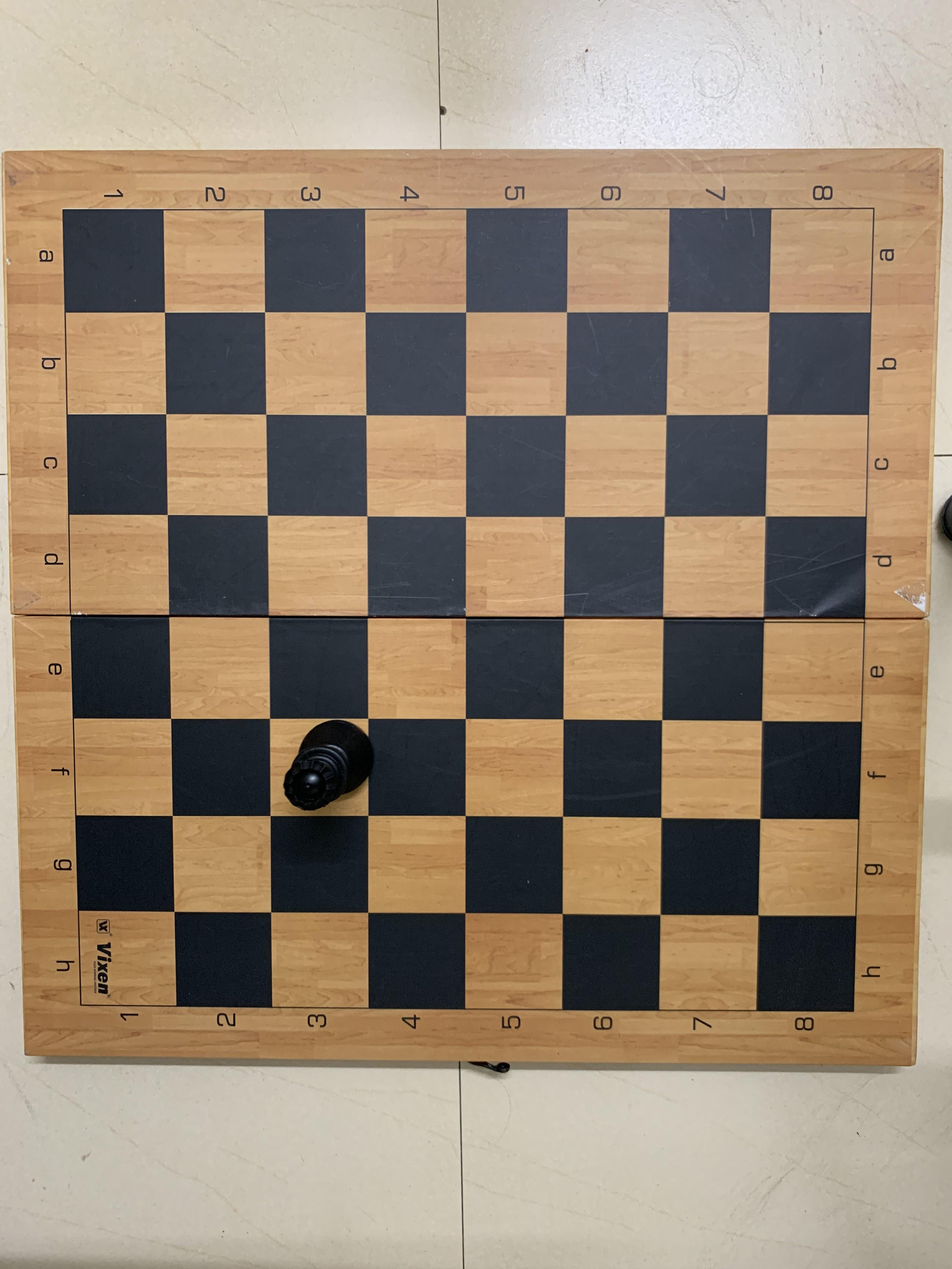black_queen: (266, 713, 381, 814)
